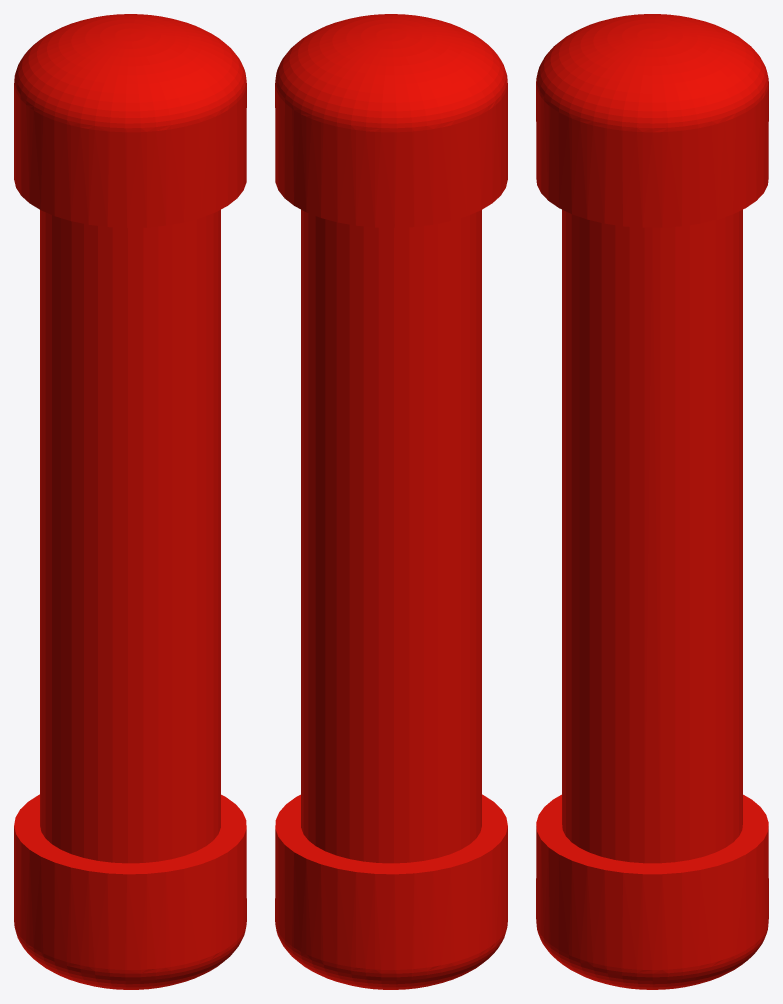
Rendered from tubeworm.001.dae.
3 renders of one model, left to right at view 1: azimuth 30°, elevation 25°; view 2: azimuth 150°, elevation 25°; view 3: azimuth 270°, elevation 25°, orthographic.
Visible parts, largest first — view 1: tubeworm; view 2: tubeworm; view 3: tubeworm.
Part boxes in pixels (x1,y1,x2,y2): tubeworm: (14,14,246,989); tubeworm: (275,14,507,989); tubeworm: (536,14,768,989).
Bounding box in the file's own units: 0.0382 × 0.0382 × 0.1693.
